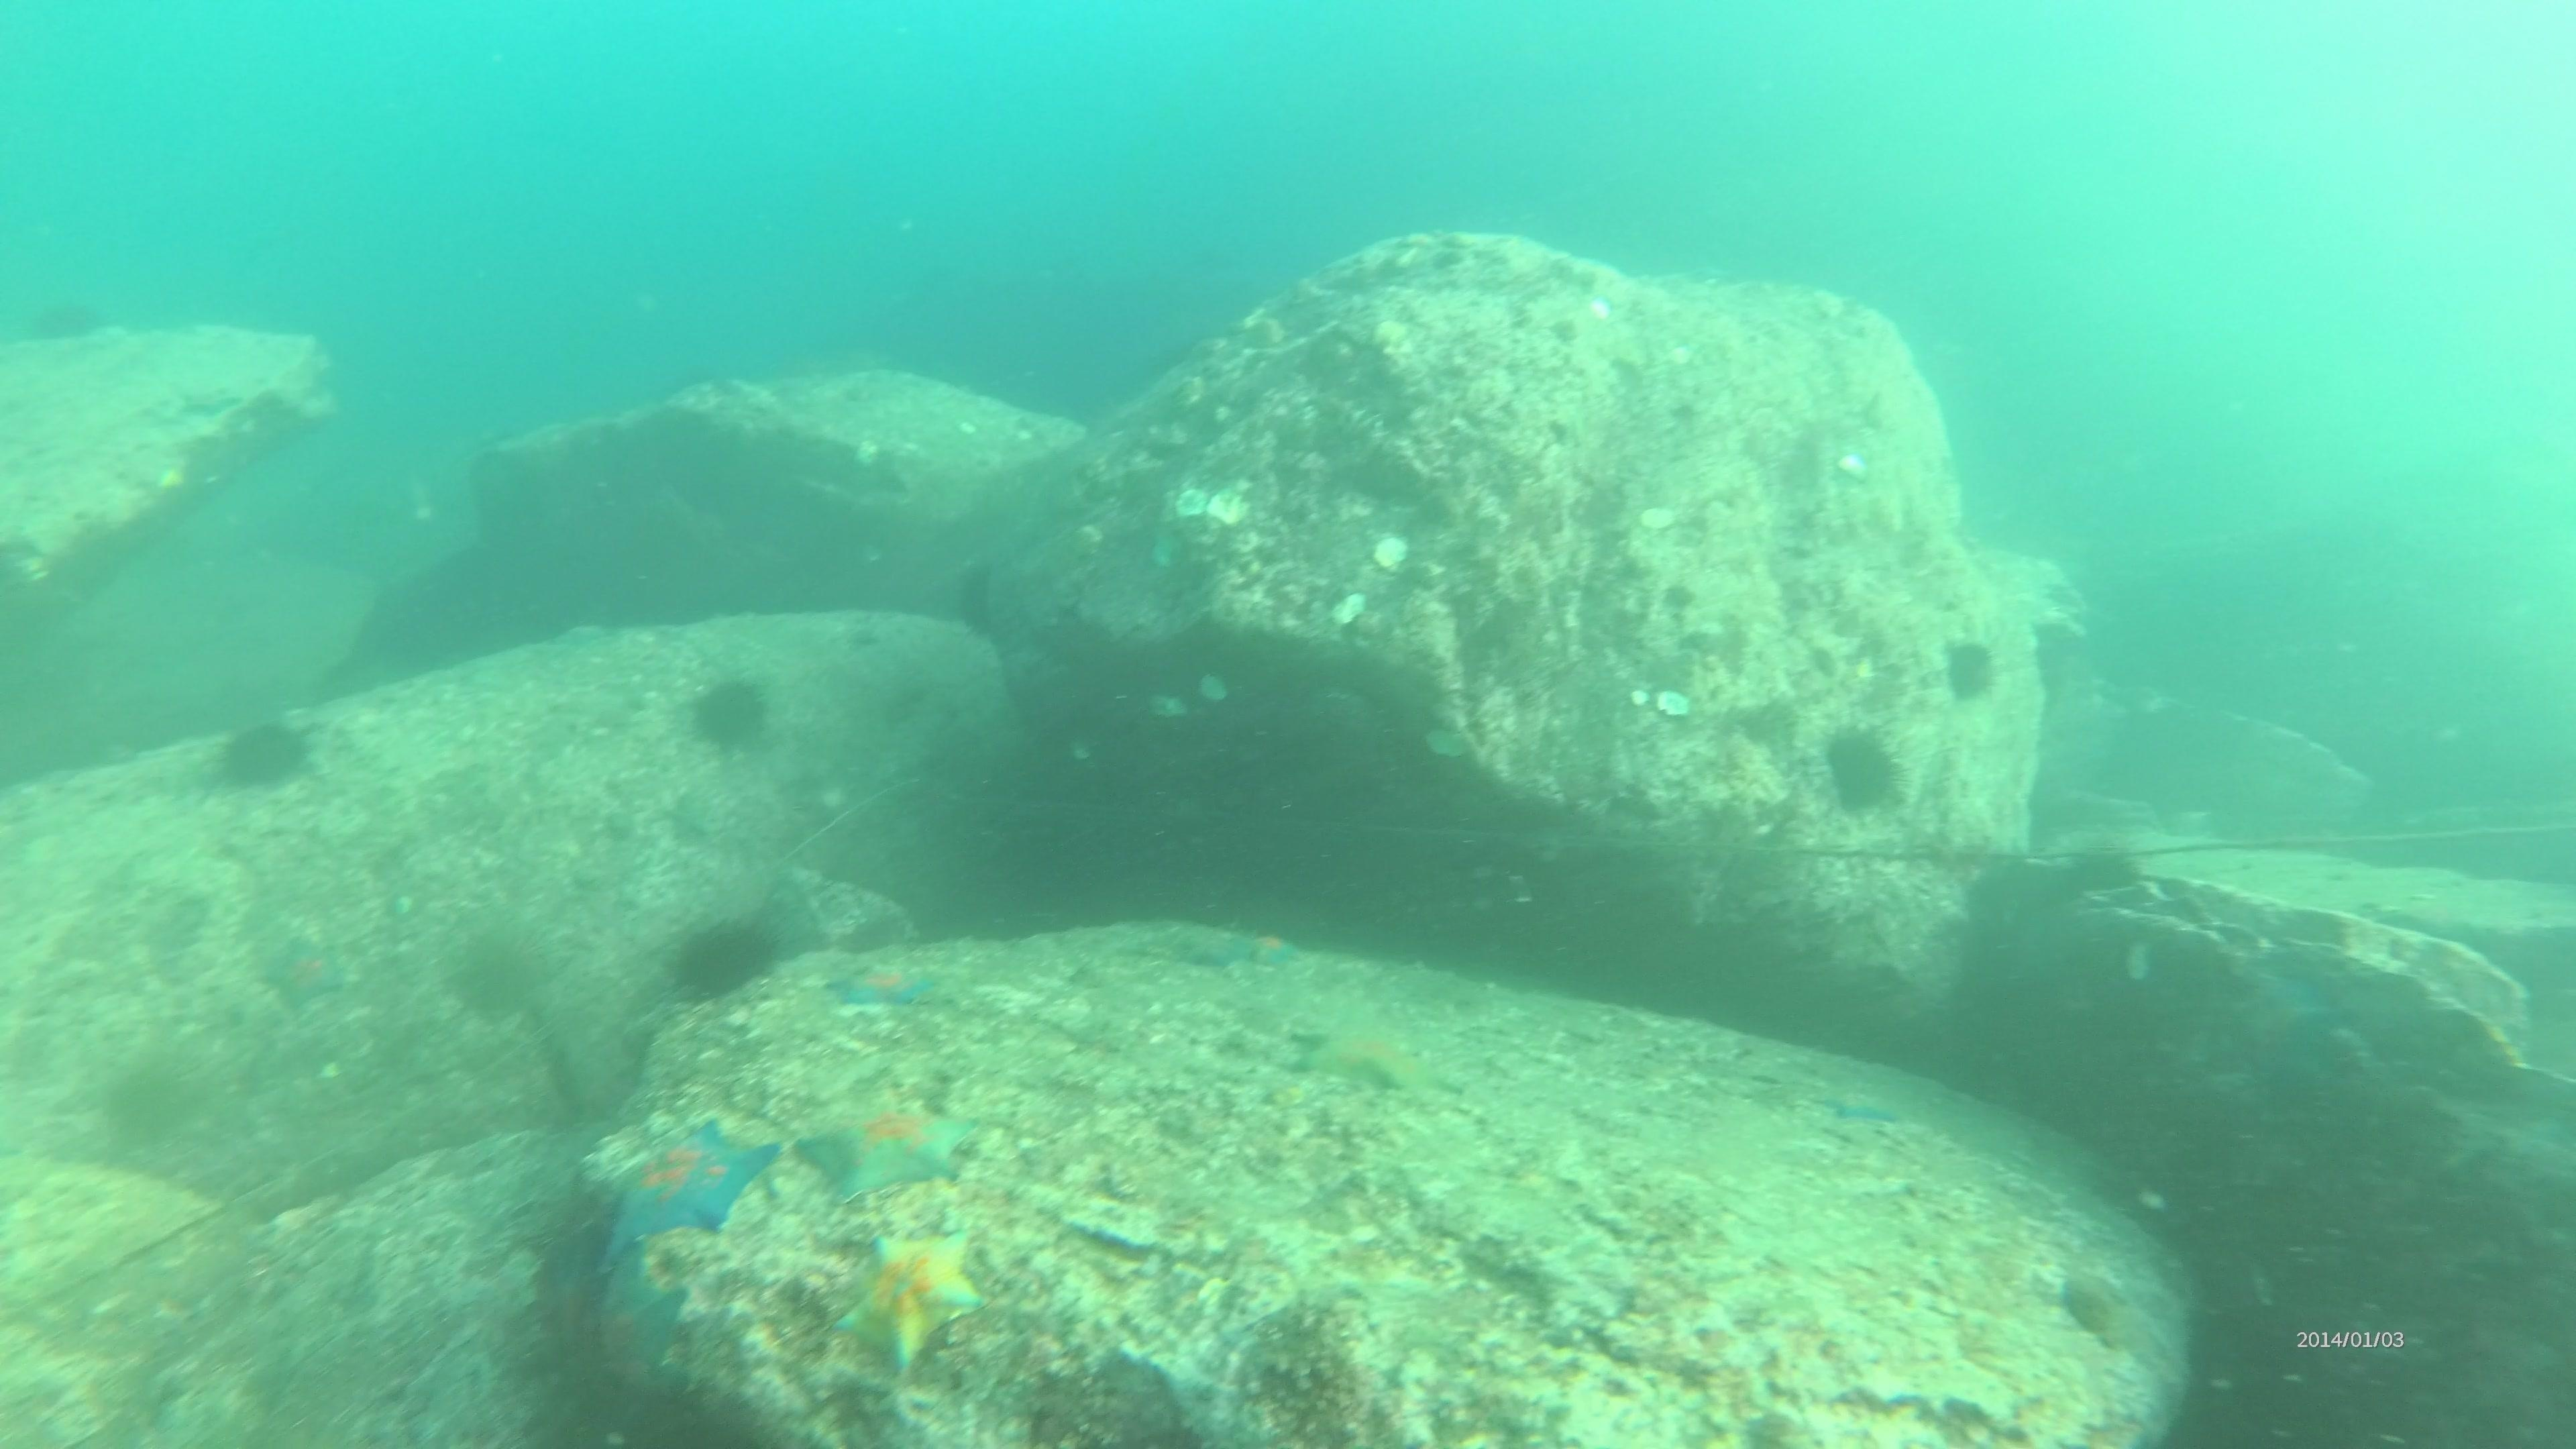echinus: (92, 1047, 211, 1155), (662, 908, 786, 1008), (441, 922, 552, 1026), (207, 709, 318, 800), (1813, 718, 1909, 821), (679, 665, 778, 759), (2054, 839, 2151, 915), (1934, 630, 2005, 709), (955, 556, 996, 635), (35, 299, 103, 345)
starfish: (594, 1113, 780, 1260), (828, 1221, 991, 1378), (796, 1085, 978, 1207), (1286, 1007, 1454, 1102), (591, 1270, 694, 1387), (821, 947, 962, 1021), (251, 924, 356, 1016), (1166, 918, 1290, 980), (1808, 1077, 1918, 1136)
